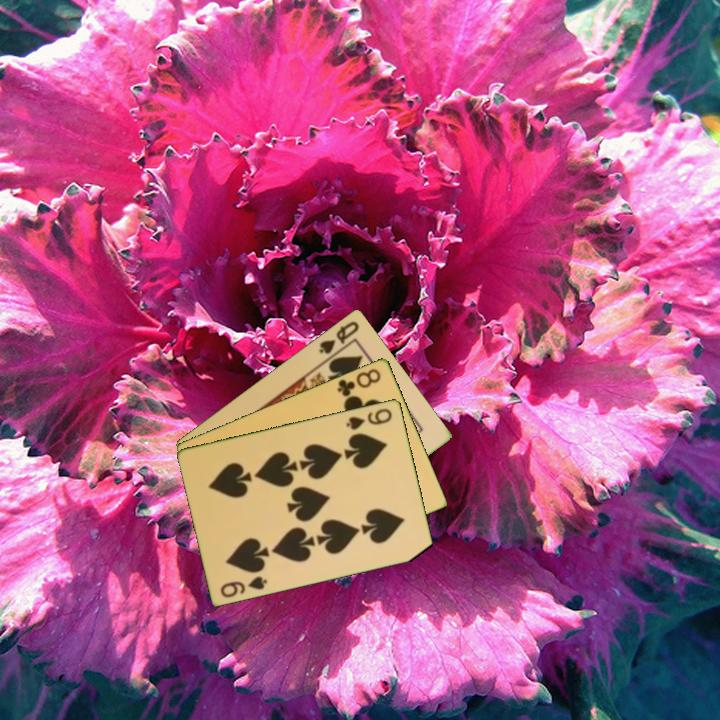8c: (334, 365, 384, 399)
9s: (217, 572, 270, 600), (343, 404, 395, 432)
Qs: (315, 317, 362, 357)
